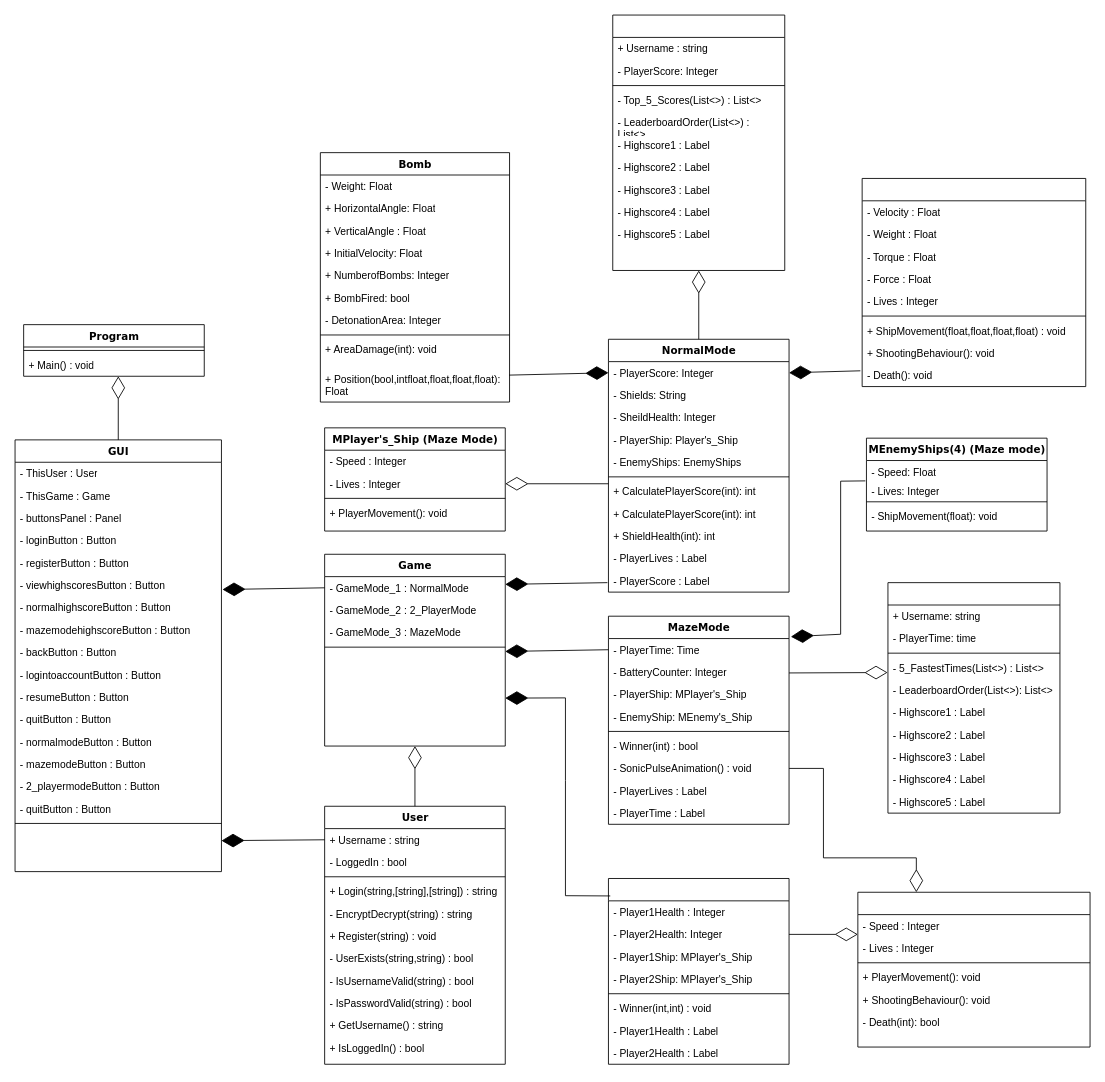
The diagram is 1105 pixels wide and 1082 high, and some of its shapes have lost their labels. Each missing label, with the box of its shape:
2_PlayerMode: (608, 878, 789, 1064)
EnemyShips (Normal mode): (861, 178, 1086, 387)
Highscore (Maze mode): (887, 582, 1060, 813)
Highscore (Normal mode): (612, 14, 785, 270)
Player's Ship (Normal/2 Player Mode): (857, 891, 1090, 1047)
